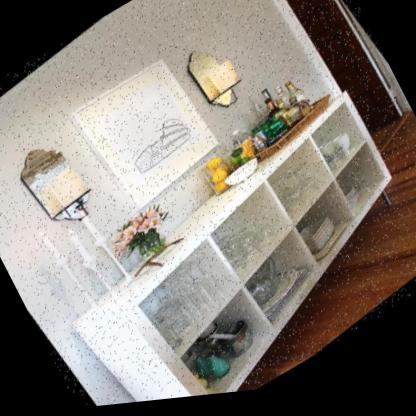Shelf: (36, 74, 416, 413)
